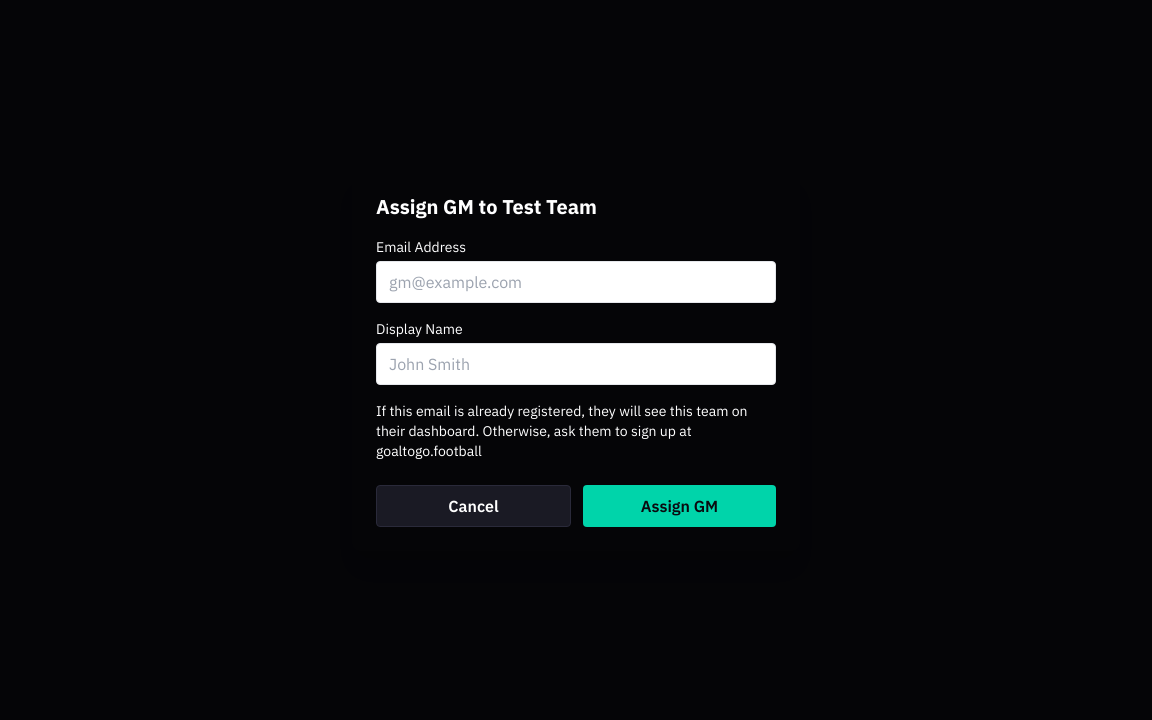
Test: AssignGmModal › Form Validation › shows error when display name is empty
Type "test@example.com" into the field labelled "Email Address" at (576, 282), box 376,261 -> 776,303
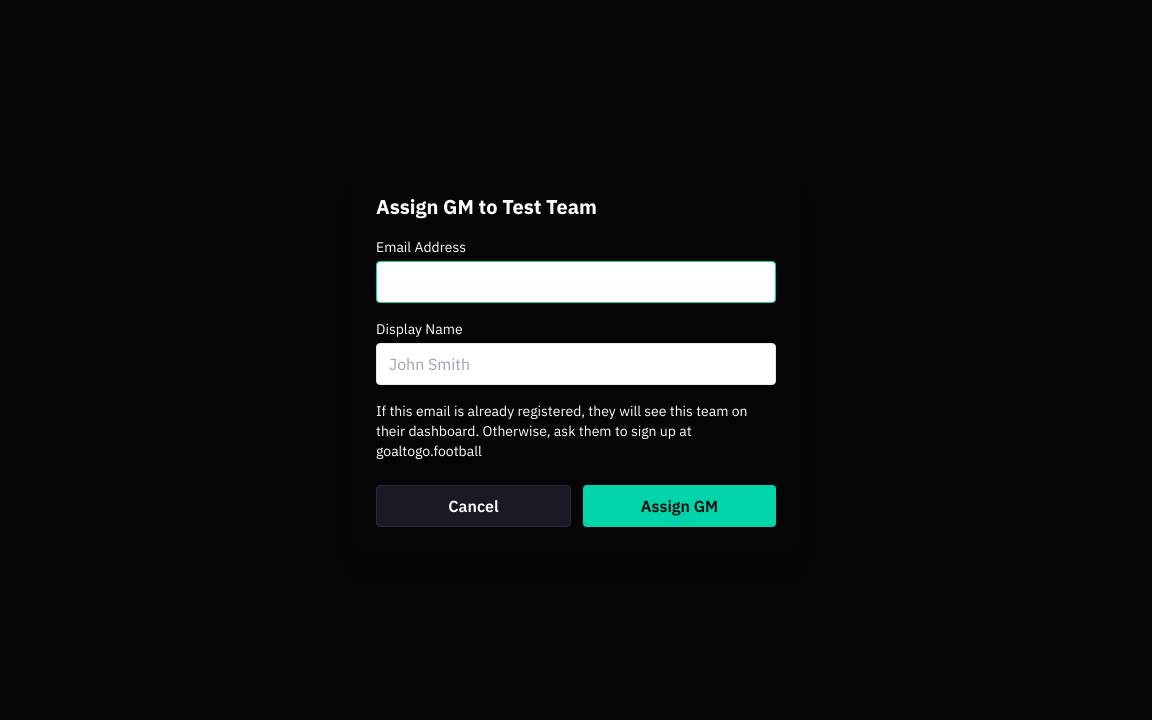
Click the button "Assign GM" at (680, 506), box 583,485 -> 776,527
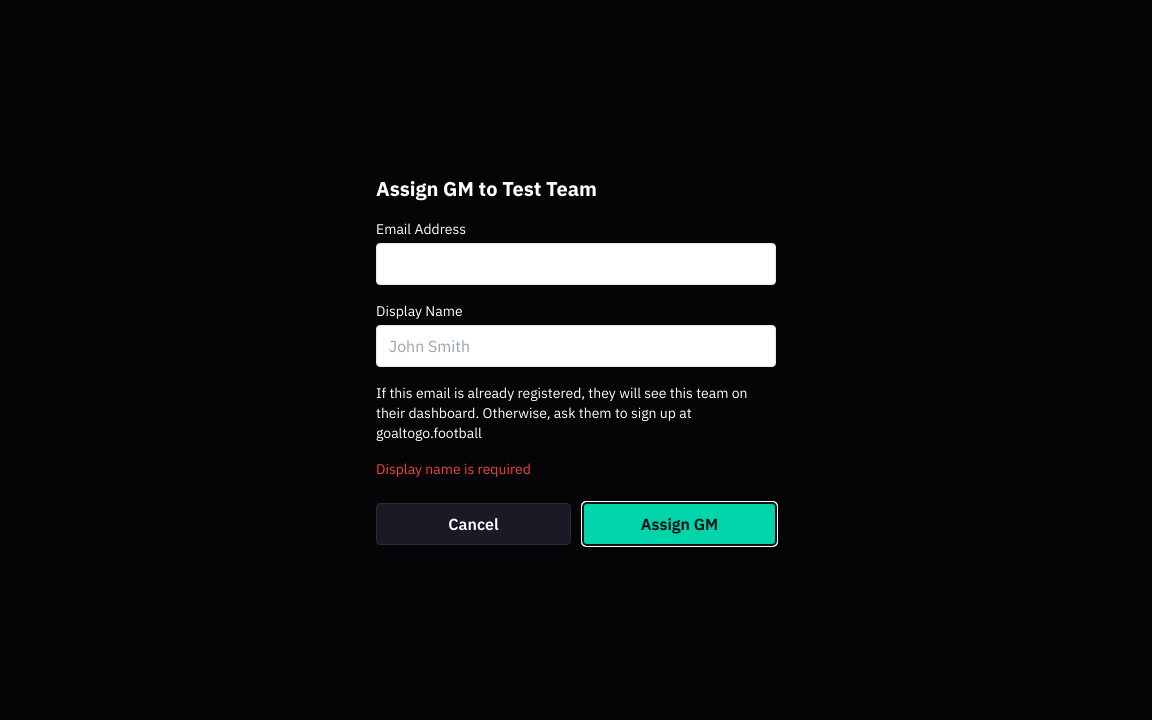
Expected: the message reads "Display name is required", 376,460 -> 531,478
